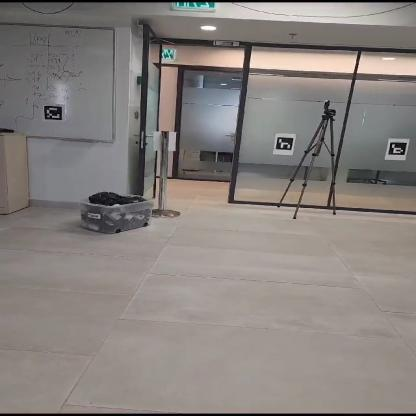open: (153, 63, 251, 208)
